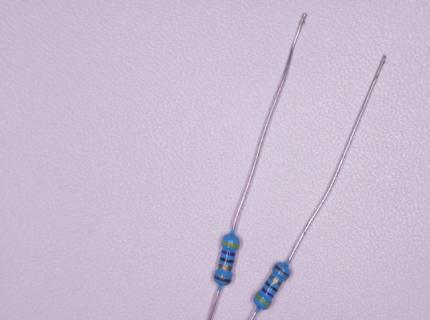Black band: (265, 281, 278, 292), (219, 256, 234, 263)
Brown band: (273, 264, 290, 278), (214, 275, 232, 283)
Gold band: (268, 274, 283, 286), (218, 263, 233, 271)
Violet band: (261, 287, 274, 298), (221, 249, 236, 256)
Yellow band: (254, 293, 271, 307), (222, 240, 240, 248)
